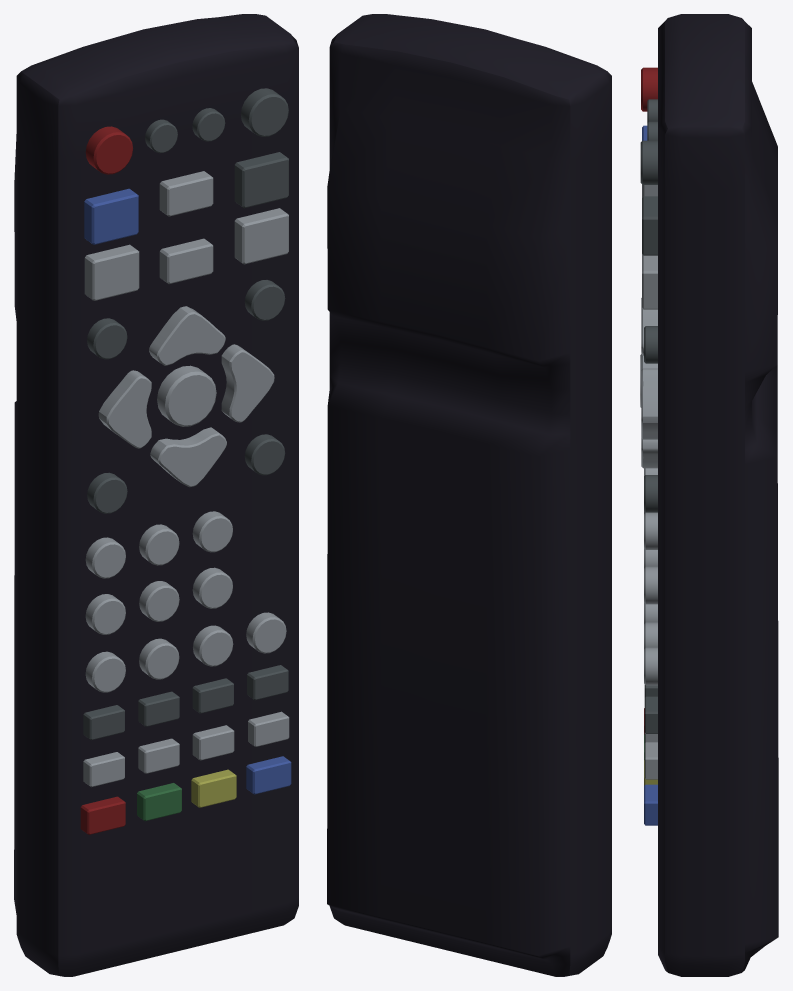
Rendered from TV_Remote.fbx.
The picture shows the model from 3 angles, left to right: view 1: azimuth 30°, elevation 25°; view 2: azimuth 150°, elevation 25°; view 3: azimuth 270°, elevation 25°; orthographic projection. The views are drawn at different scales.
Parts seen in each view (by area): view 1: pCylinder29; view 2: pCylinder29; view 3: pCylinder29.
Boxes of the visible parts, box(x1,y1,x2,y2) form: pCylinder29: box(14, 14, 298, 976); pCylinder29: box(327, 14, 611, 976); pCylinder29: box(640, 14, 778, 976).
Size of the model in its own units: 3 by 10.24 by 1.47.
